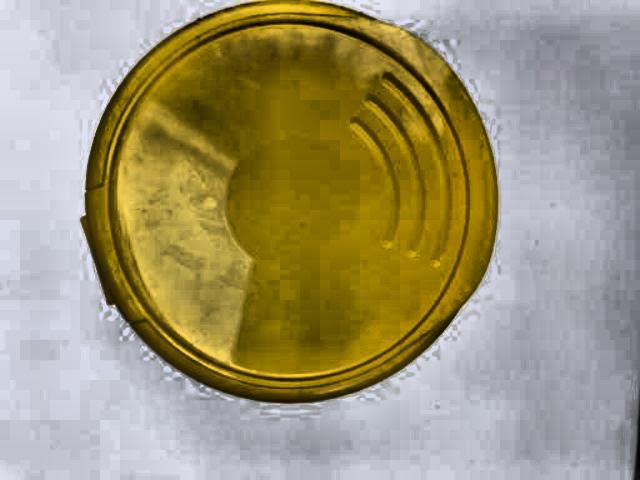Plastic: (95, 4, 508, 406)
